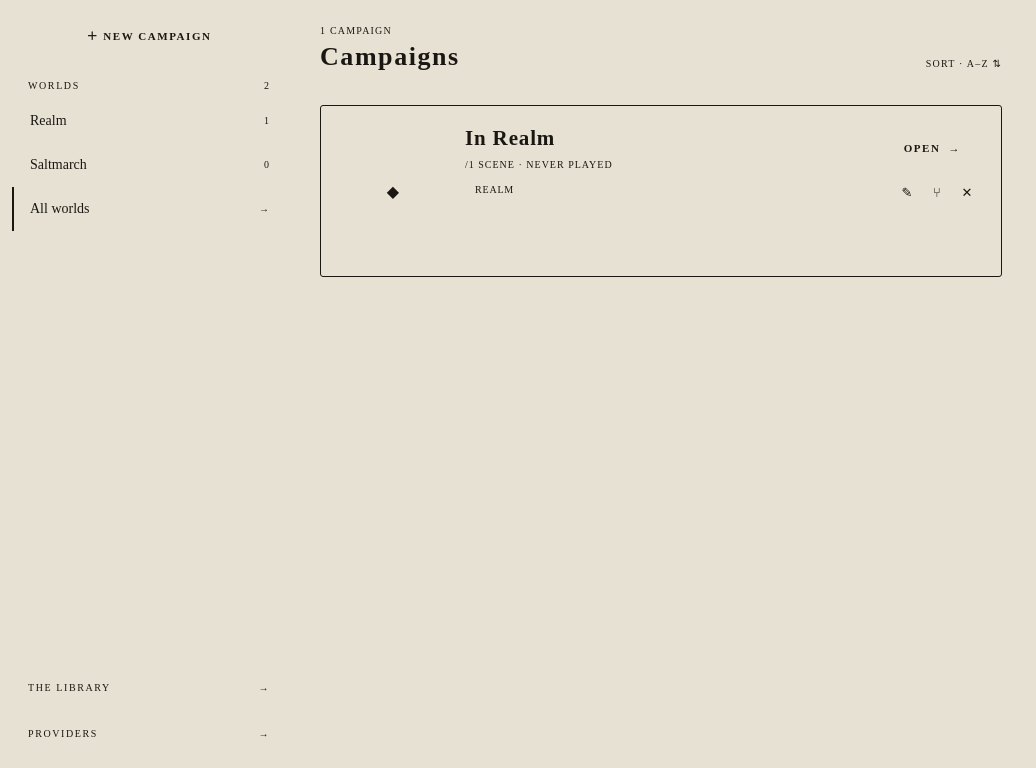
an empty world says which world is empty, not just that nothing is here
Expected: the link "In Realm" is shown, [465,126,555,150]
Click the button "Saltmarch 0".
click(58, 164)  # box [12,143,286,187]
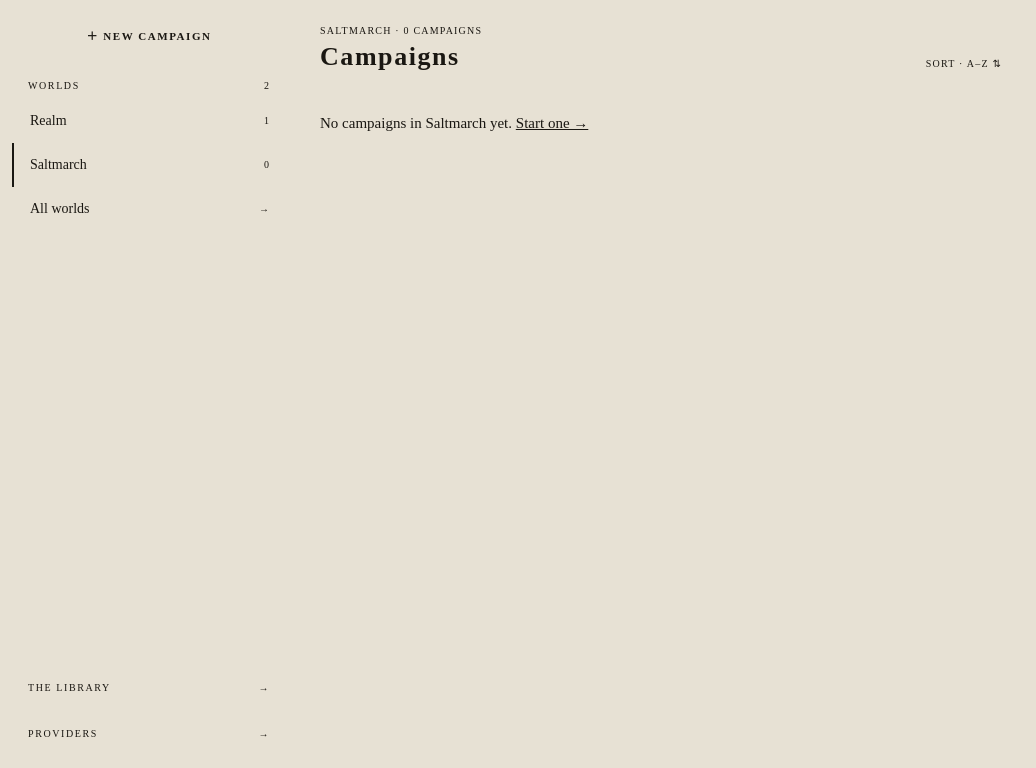
Now the text "No campaigns in Saltmarch yet." is shown, box [320,115,512,131]
